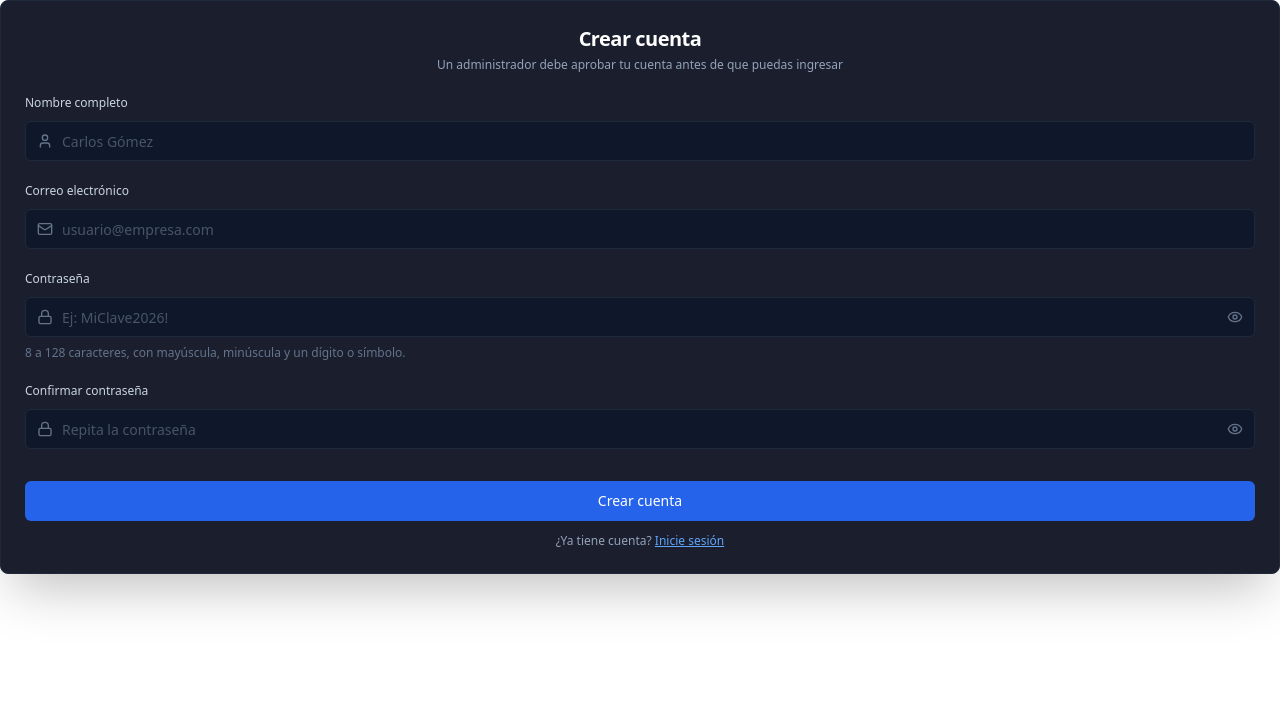
Scenario: SignupPage › flags mismatched confirmation
This screenshot has width=1280, height=720.
Type "Nuevo" into the field labelled "Nombre completo" at (640, 141), box [25,121,1255,161]
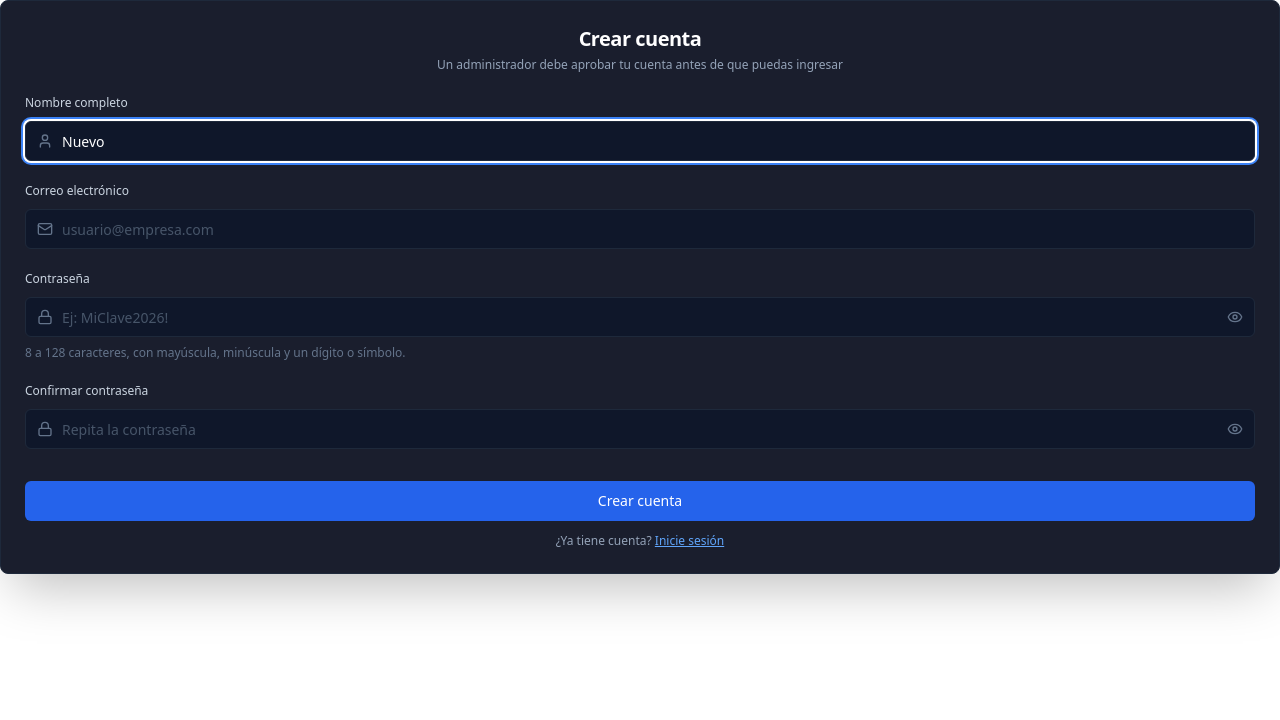
Type "nuevo@erp.com" into the field labelled "Correo electrónico" at (640, 229), box [25,209,1255,249]
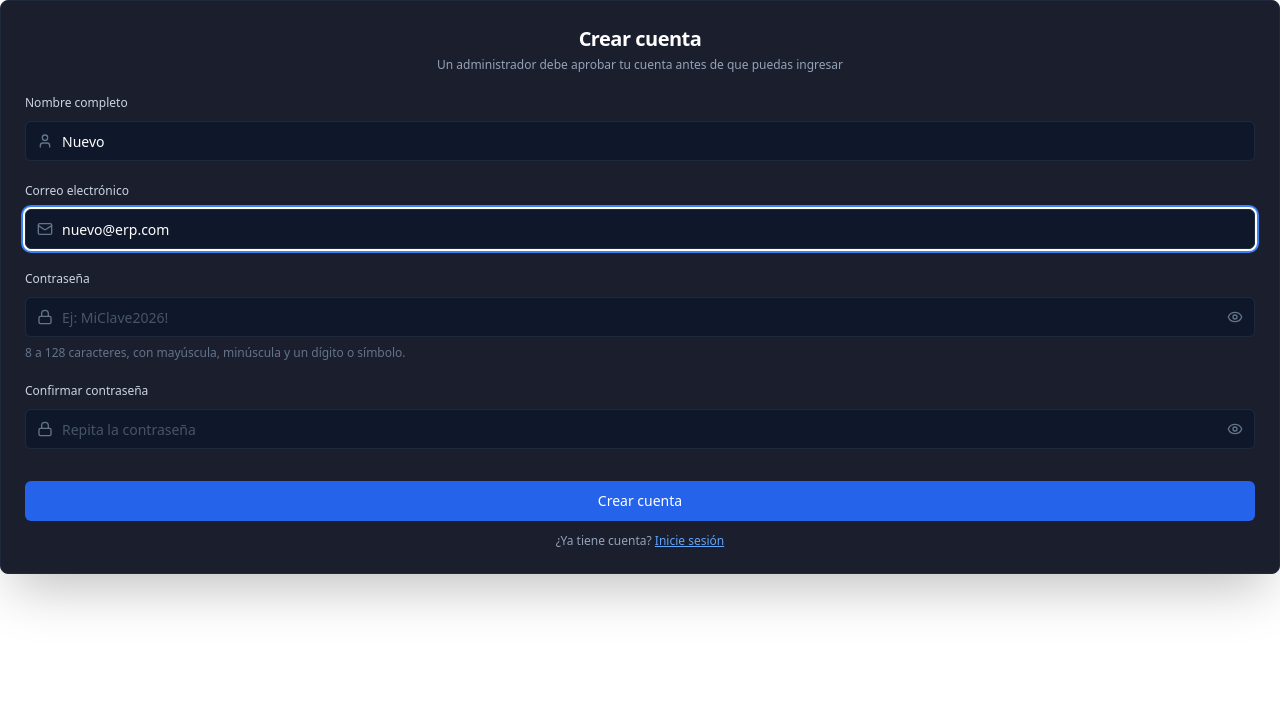
Type "Secret123!" into the password field labelled "Contraseña" at (640, 317), box [25,297,1255,337]
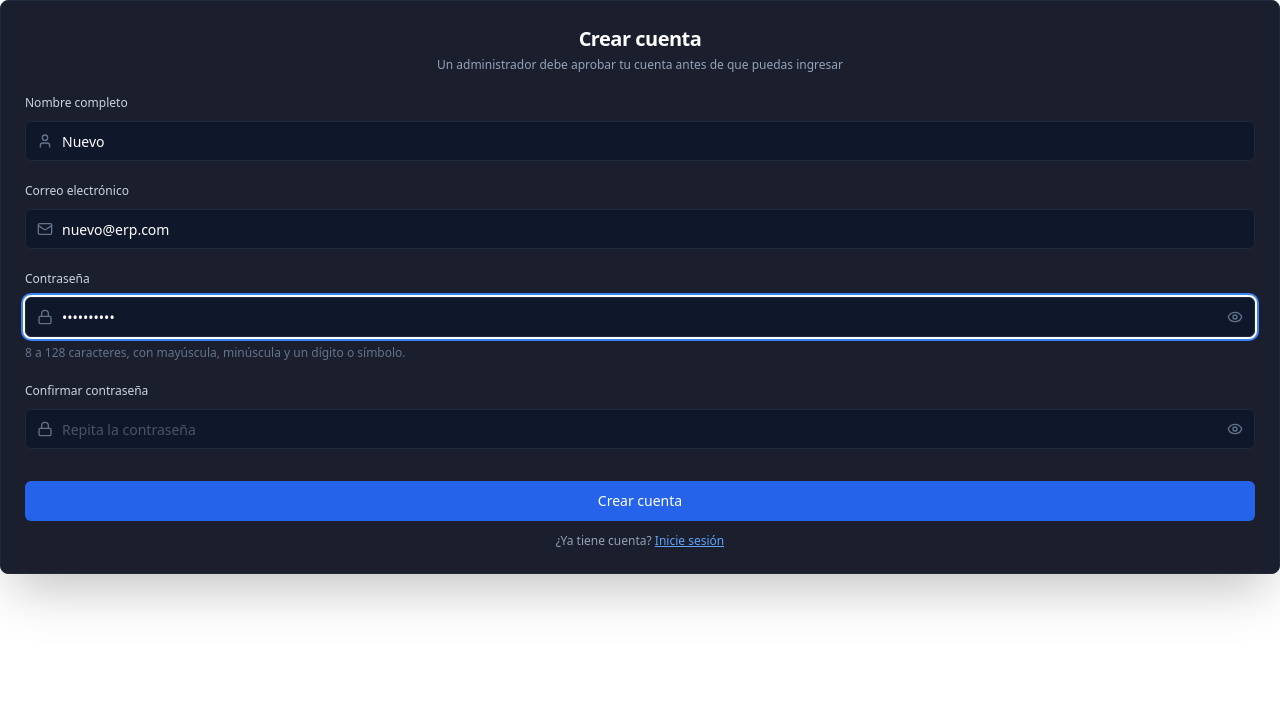
Type "Other123!" into the password field labelled "Confirmar contraseña" at (640, 429), box [25,409,1255,449]
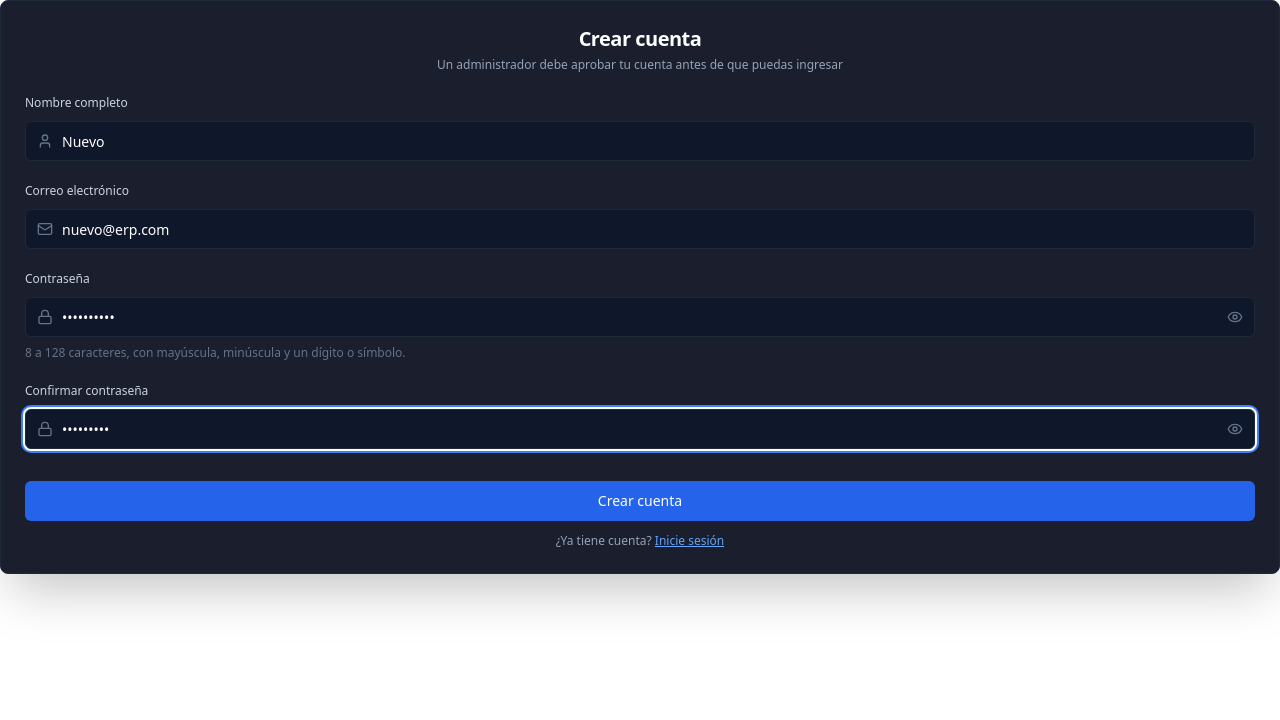
Click the button "Crear cuenta" at (640, 501), box [25,481,1255,521]
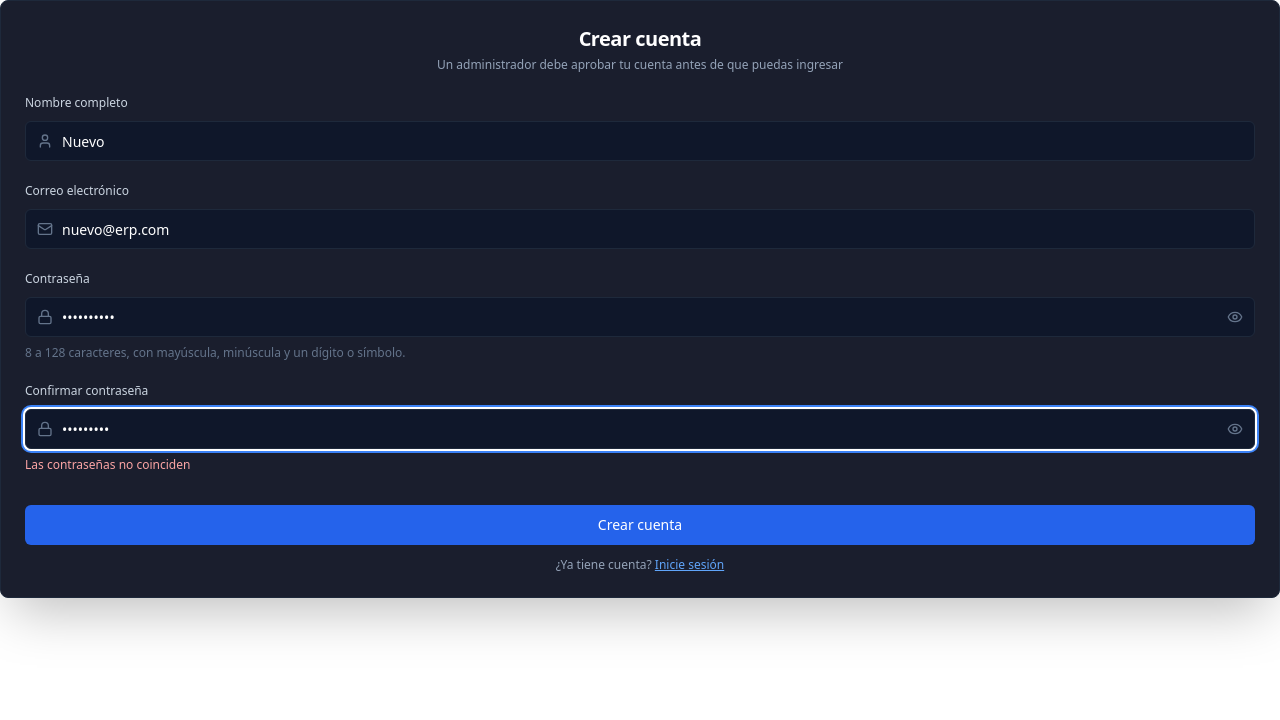
Now the text "Las contraseñas no coinciden" is shown, box [25,456,190,473]
